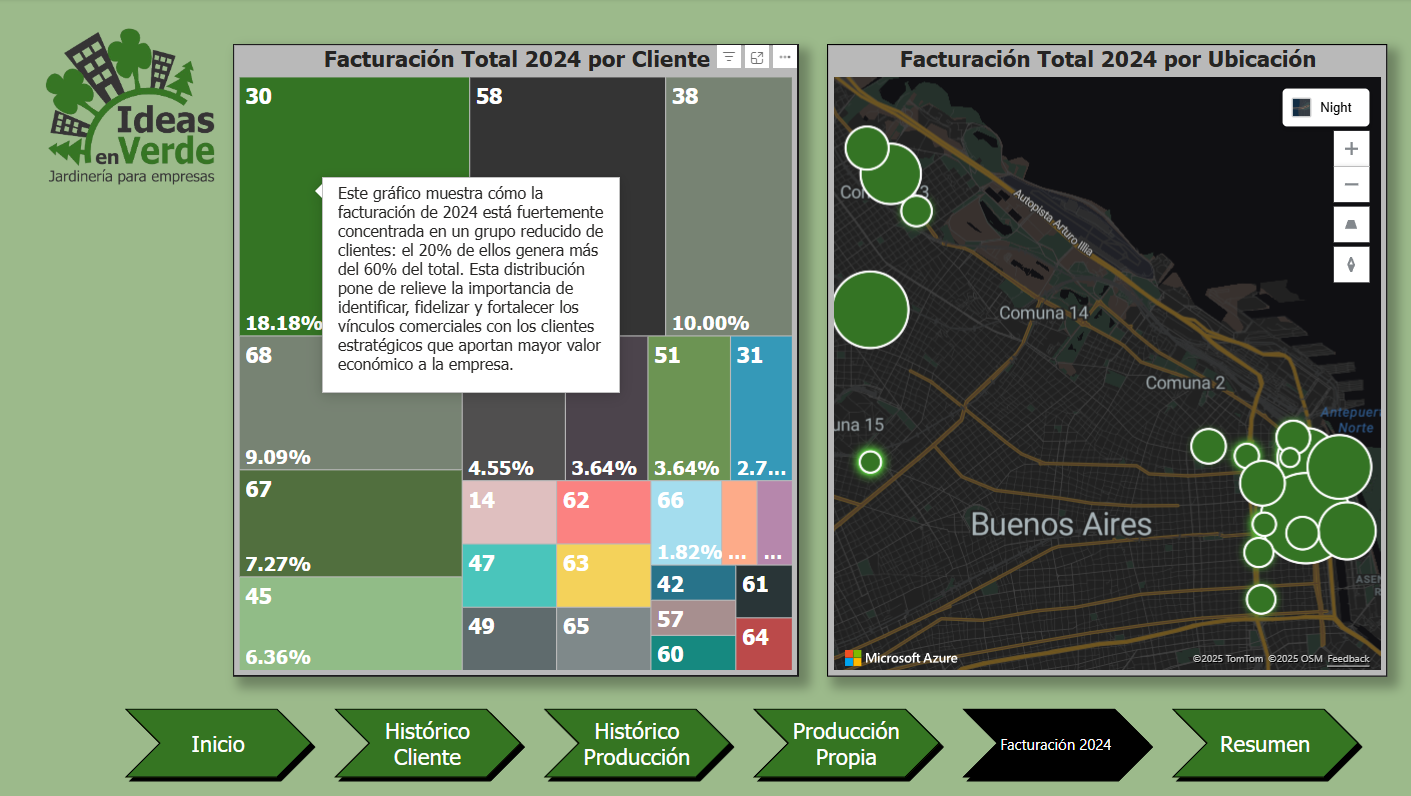

The page's visual inventory and layout, read from the dashboard file:
{"tool":"powerbi","page":{"name":"Facturación 2024","canvas":[1280,720],"ordinal":4},"visuals":[{"type":"pageNavigator","box":[114.1,633.3,1122.2,72.7],"z":0},{"type":"image","box":[31.1,22.4,184.8,149.8],"z":1000},{"type":"treemap","title":"Facturación Total 2024 por Cliente ","fields":{"Group":["Facturacion_2024.Cliente"],"Values":["Sum(Facturacion_2024.Round Up)"]},"box":[215.9,40.9,507.7,568],"z":2000},{"type":"azureMap","title":"Facturación Total 2024 por Ubicación","fields":{"Category":["Table1 (2).Dirección"],"Size":["Sum(Table1 (2).Total_C)"]},"box":[749.9,40.9,502.9,568],"z":3000}]}

Visuals, with their boxes in screenshot pixels (x1, y1, x2, y2), scaled from the page's 1280x720 canvas onto the 1411x796 screenshot:
pageNavigator: <box>126,700,1363,781</box>
image: <box>34,25,238,190</box>
"Facturación Total 2024 por Cliente " treemap: <box>238,45,798,673</box>
"Facturación Total 2024 por Ubicación" azureMap: <box>827,45,1381,673</box>
